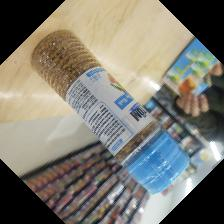TayNinh_blue: (30, 29, 190, 197)
